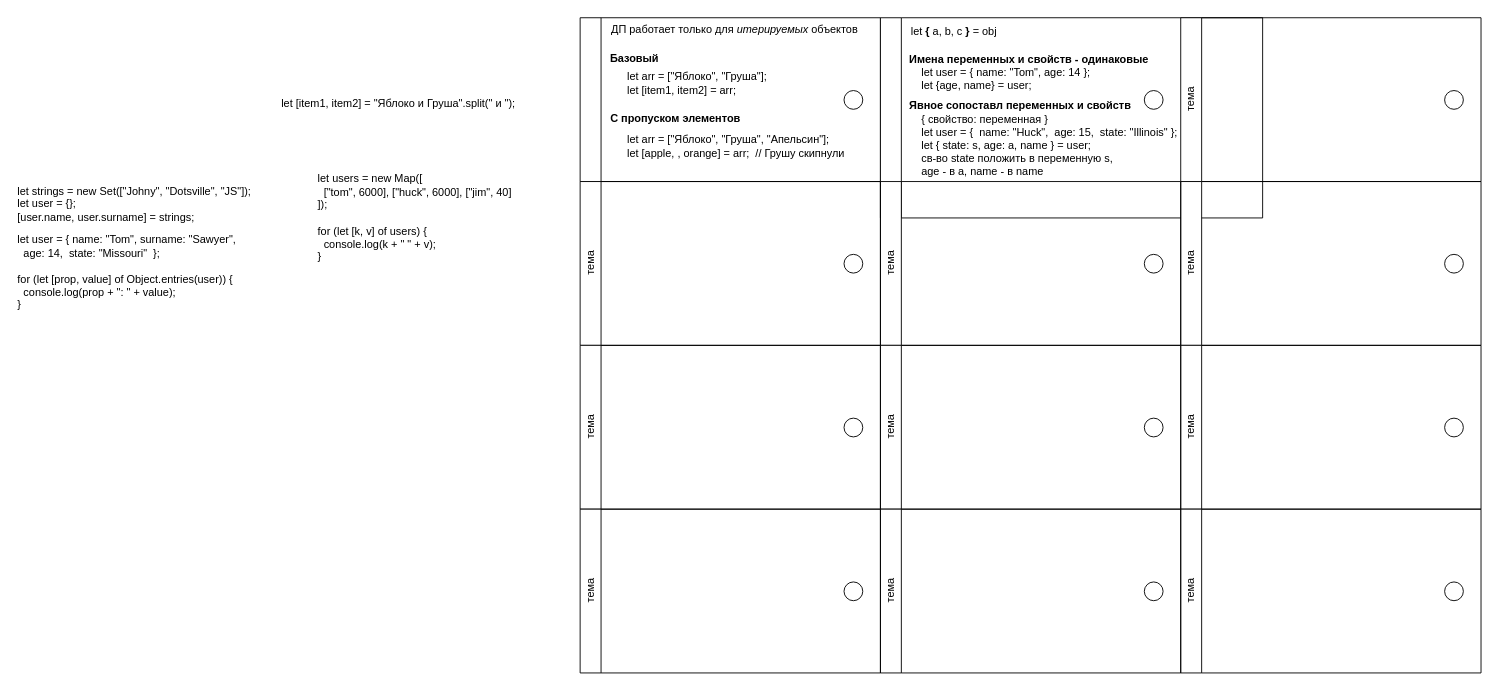
The diagram is 1497 pixels wide and 689 high, and some of its shapes have lost their labels. Here are the shapes that lost their labels. From the top down, the box of each, then its label:
(579, 17, 880, 182): деструкт присв (массивы) (1)
(880, 17, 1263, 218): деструкт присв (объекты) (2)
